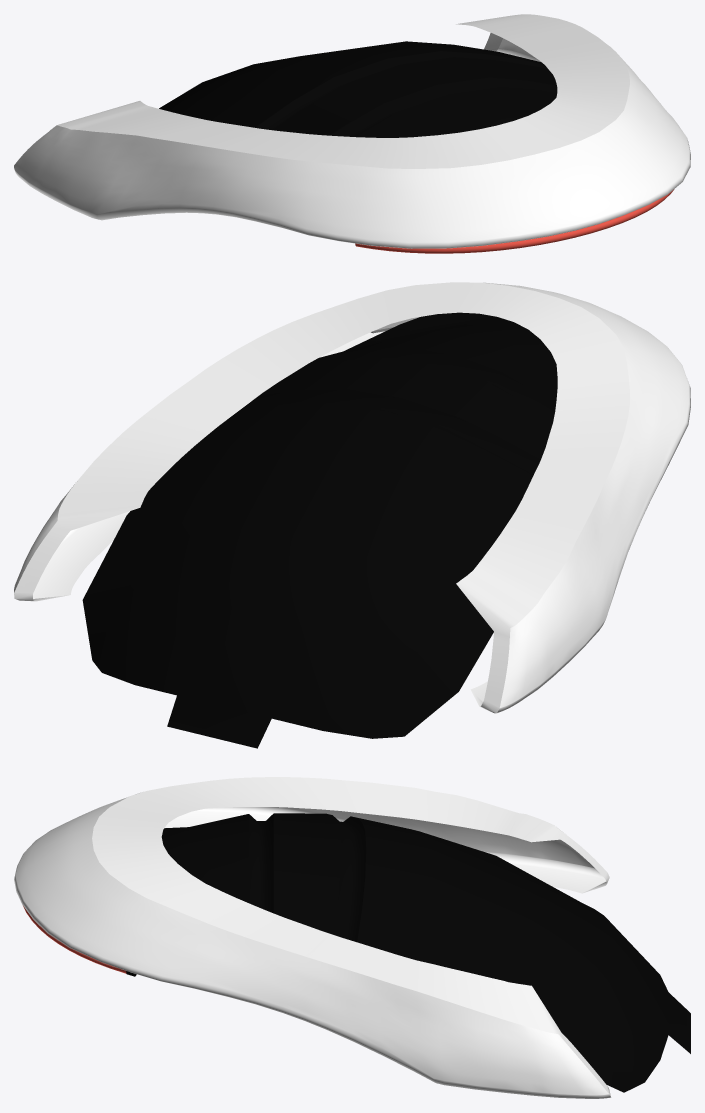
Rendered from RearFender_STEALTH.glb.
3 renders of one model, top to bottom at view 1: azimuth 30°, elevation 25°; view 2: azimuth 150°, elevation 25°; view 3: azimuth 270°, elevation 25°, orthographic. The views are drawn at different scales.
Parts seen in each view (by area): view 1: Fender, Rear Frame Brace.001, BézierCurve; view 2: Rear Frame Brace.001, Fender; view 3: Fender, Rear Frame Brace.001.
Part boxes in pixels (bbox=[...]): Fender: bbox=[14, 14, 690, 248]; Rear Frame Brace.001: bbox=[159, 41, 557, 137]; BézierCurve: bbox=[355, 189, 674, 253]; Rear Frame Brace.001: bbox=[82, 312, 557, 748]; Fender: bbox=[14, 282, 690, 713]; Fender: bbox=[14, 777, 611, 1098]; Rear Frame Brace.001: bbox=[161, 813, 690, 1092].
Bounding box in the file's own units: 0.4297 × 0.1691 × 0.5273.
